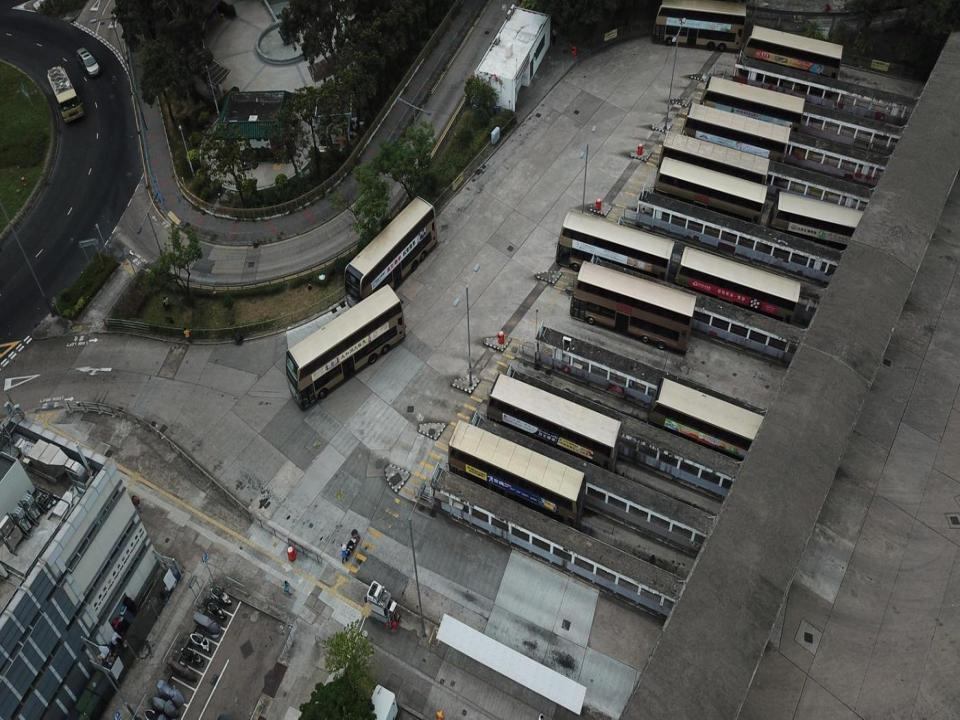bus: (282, 284, 414, 413), (445, 419, 588, 526), (566, 250, 697, 354), (488, 372, 623, 470), (340, 194, 439, 302), (553, 196, 666, 289), (648, 366, 765, 454), (683, 239, 798, 321), (655, 160, 768, 232), (662, 128, 778, 191), (703, 69, 809, 129), (687, 101, 789, 158), (744, 24, 844, 82), (771, 183, 859, 246), (652, 3, 745, 51), (46, 65, 86, 122)
car: (74, 44, 102, 78)
